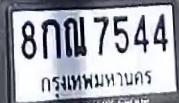4: (133, 14, 149, 52), (152, 13, 168, 51)
5: (112, 15, 129, 53)
7: (93, 15, 108, 55)
8: (20, 20, 36, 58)
A01: (41, 18, 60, 58)
A19: (63, 16, 86, 56)
BKK: (34, 64, 155, 96)
